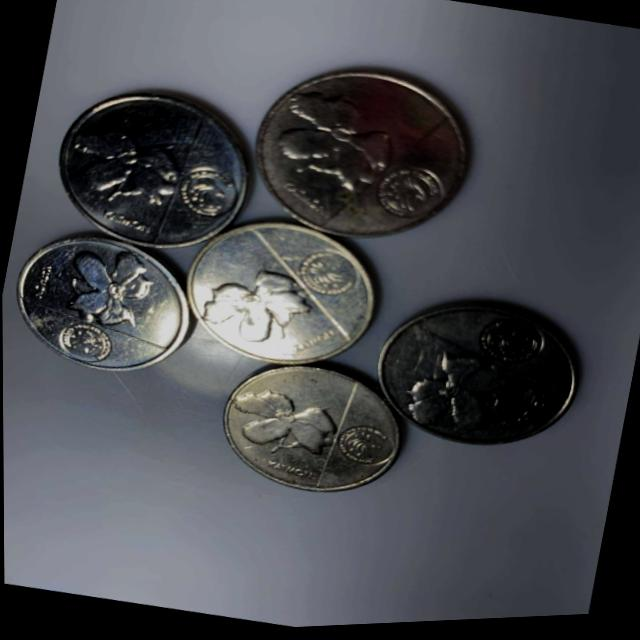25Cent_New_Back: (243, 53, 484, 258), (366, 286, 591, 470), (45, 70, 255, 266), (176, 204, 380, 381), (3, 221, 197, 387), (209, 351, 408, 510)
